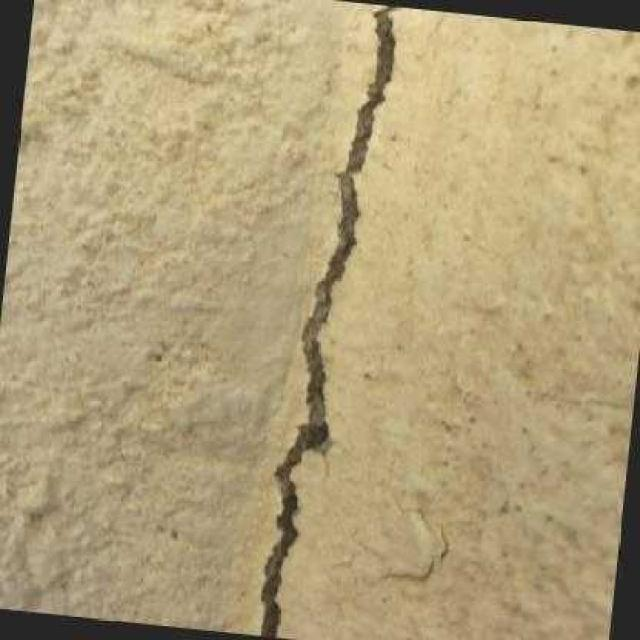D00: (258, 5, 399, 637)
